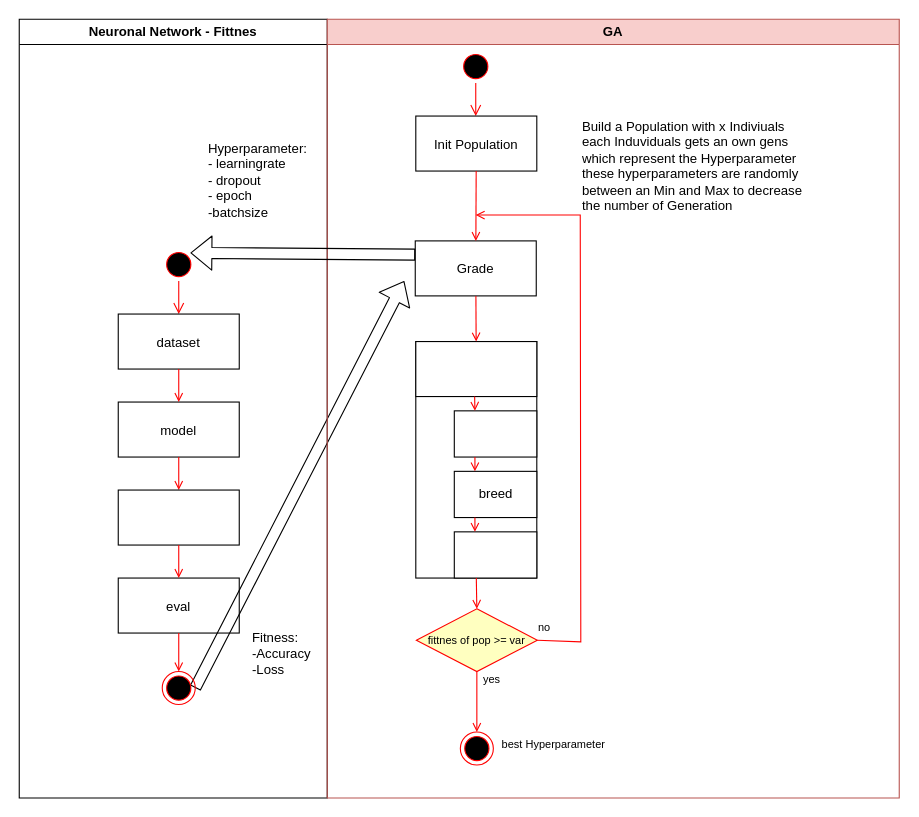
Some shapes in this 919 by 817 pixel diagram are drawn without their labels. The shapes that lost their labels are listed below. From the top down, each one's centre as x and y in pixels, then its label:
At (x=476, y=368): "Evolve".
At (x=495, y=433): "select Parents".
At (x=178, y=517): "train/fit".
At (x=495, y=554): "exchange".
